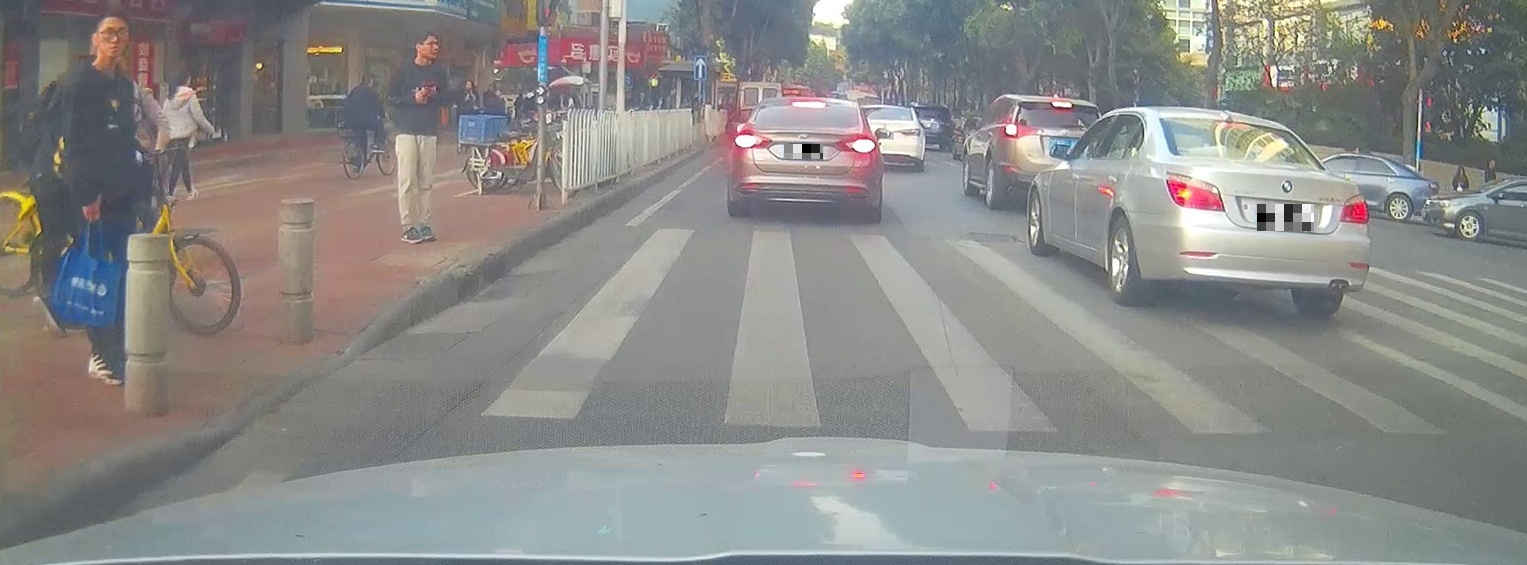L_light: (1164, 172, 1226, 212), (734, 133, 772, 150)
R_light: (836, 133, 878, 156), (1340, 194, 1369, 223)
T_light: (1222, 120, 1251, 132), (792, 102, 827, 110)
day-brake: (729, 97, 883, 222)
day-left: (1151, 105, 1371, 319)
plate_1: (784, 144, 823, 159)
plate_2: (1257, 204, 1314, 231)
